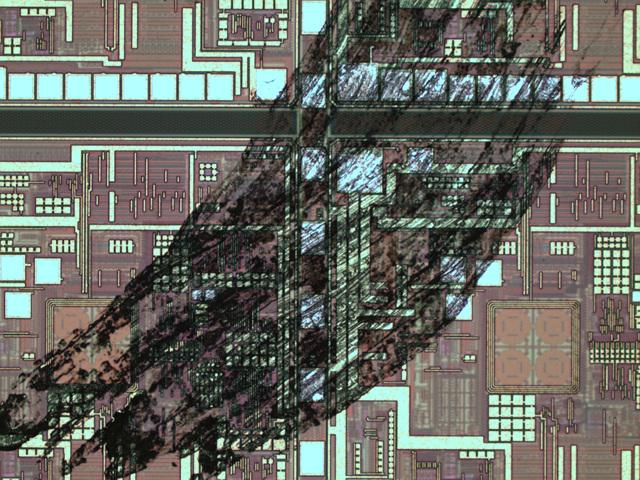SCRATCH: (1, 1, 629, 480)
